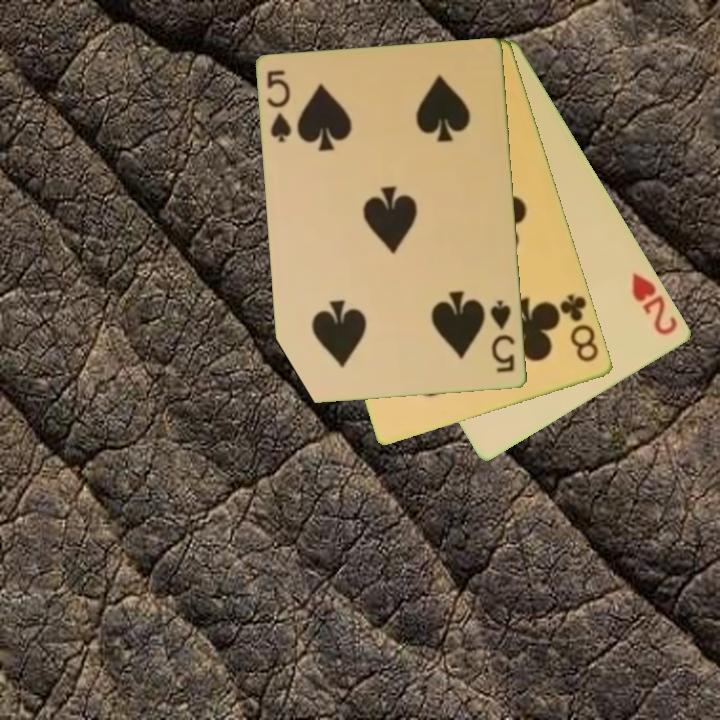2h: (628, 269, 681, 338)
5s: (487, 297, 518, 376), (264, 67, 295, 146)
8c: (556, 290, 602, 365)
